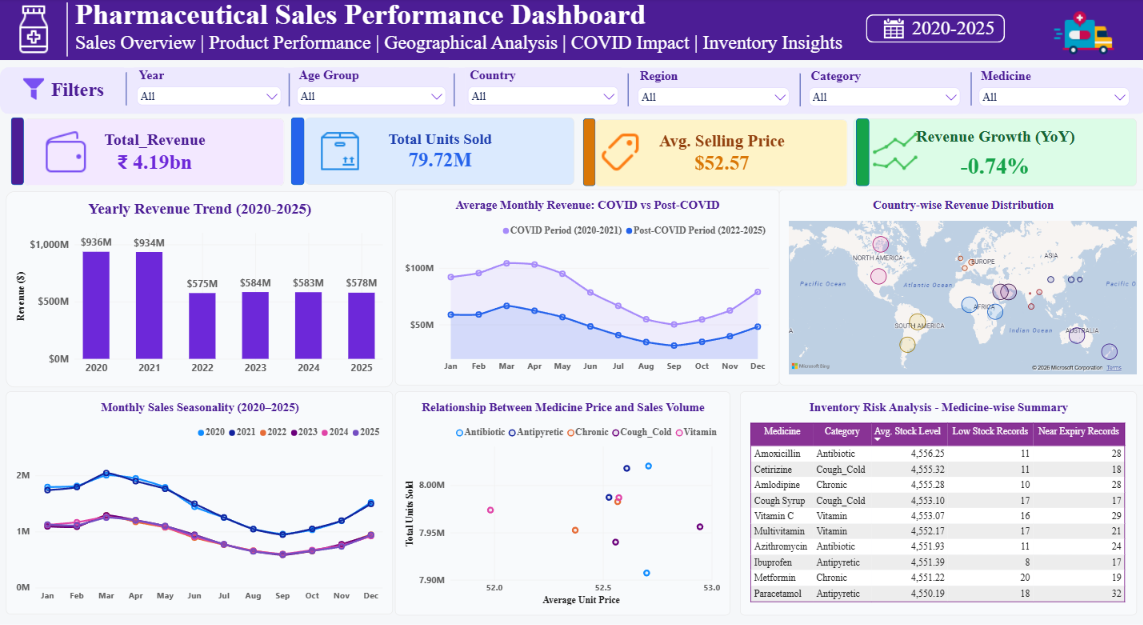

This screenshot's page, from the dashboard's own definition file:
{"tool":"powerbi","page":{"name":"Page 1","canvas":[1920,1080],"ordinal":0},"visuals":[{"type":"textbox","box":[0,0,1920.4,102.9],"z":0,"group":"g1"},{"type":"shape","box":[0,115.3,1920.4,78.2],"z":0},{"type":"cardVisual","title":"Total Units Sold","fields":{"Data":["public pharma_sales.Total Units Sold"]},"box":[511,198.8,451.7,113.4],"z":0},{"type":"kpi","title":"Revenue Growth (YoY)","fields":{"Indicator":["public pharma_sales.Revenue Growth YoY %"],"TrendLine":["public pharma_sales.year"]},"box":[1428.5,201.7,475.5,113.2],"z":0,"group":"g3"},{"type":"cardVisual","title":"Average Selling Price","fields":{"Data":["public pharma_sales.Average Selling Price"]},"box":[995.9,202.3,423.8,113.4],"z":0},{"type":"group","id":"g1","title":"Group 1","box":[0,0,1920.4,102.9],"z":1000},{"type":"image","box":[10.3,12.3,92.6,80.3],"z":1000,"group":"g1"},{"type":"shape","box":[18.7,199.7,21.5,113.2],"z":1000,"group":"g2"},{"type":"shape","box":[488,199.7,22.4,113.2],"z":1000},{"type":"shape","box":[975.7,201.7,21,113.2],"z":1000},{"type":"shape","box":[1432.9,201.7,22.2,113.2],"z":1000,"group":"g3"},{"type":"textbox","box":[1527.3,30.9,142,43.2],"z":2000},{"type":"image","box":[1712.5,0,207.9,115.3],"z":3000},{"type":"image","box":[1465.5,26.8,63.8,47.3],"z":4000},{"type":"shape","box":[1451.1,26.8,232.6,47.3],"z":5000},{"type":"shape","box":[84.4,6.2,57.6,90.6],"z":6000},{"type":"slicer","fields":{"Values":["public pharma_sales.year"]},"box":[224.4,115.3,251.1,76.2],"z":7000},{"type":"slicer","fields":{"Values":["public pharma_sales.age_group"]},"box":[491.9,115.3,259.3,76.2],"z":8000},{"type":"slicer","fields":{"Values":["public pharma_sales.region"]},"box":[1064.2,117.3,263.5,76.2],"z":9000},{"type":"slicer","fields":{"Values":["public pharma_sales.country"]},"box":[778,115.3,261.4,76.2],"z":10000},{"type":"slicer","fields":{"Values":["public pharma_sales.category"]},"box":[1350.3,117.3,263.5,76.2],"z":11000},{"type":"slicer","fields":{"Values":["public pharma_sales.medicine"]},"box":[1634.3,117.3,261.4,76.2],"z":12000},{"type":"textbox","box":[10.3,115.3,197.6,76.2],"z":13000},{"type":"image","box":[37,125.6,39.1,51.5],"z":14000},{"type":"shape","box":[183.2,123.5,57.6,55.6],"z":15000},{"type":"shape","box":[454.9,125.6,57.6,55.6],"z":16000},{"type":"shape","box":[732.8,125.6,57.6,55.6],"z":17000},{"type":"shape","box":[1023,125.6,57.6,55.6],"z":18000},{"type":"shape","box":[1311.2,125.6,57.6,55.6],"z":19000},{"type":"shape","box":[1597.3,123.5,57.6,55.6],"z":20000},{"type":"group","id":"g2","title":"Group 2","box":[18.7,199.7,21.5,113.2],"z":21000},{"type":"group","id":"g3","title":"Group 5","box":[1428.5,201.7,475.5,113.2],"z":24000},{"type":"image","box":[524.9,218.2,90.6,76.2],"z":25000},{"type":"image","box":[1002.4,220.2,74.1,76.2],"z":26000},{"type":"image","box":[1461.4,220.2,74.1,76.2],"z":27000},{"type":"clusteredColumnChart","title":"Yearly Revenue Trend (2020-2025)","fields":{"Category":["public pharma_sales.year"],"Y":["public pharma_sales.Total_Revenue"]},"box":[10,323.3,648.2,328.3],"z":28000},{"type":"lineChart","title":"Average Monthly Revenue: COVID vs Post-COVID","fields":{"Category":["public pharma_sales.Month_Year"],"Series":["public pharma_sales.COVID_period"],"Y":["public pharma_sales.Average_Monthly_Revenue"]},"box":[661,319.2,643.6,327.9],"z":29000},{"type":"map","title":"Country-wise Revenue Distribution","fields":{"Category":["public pharma_sales.country"],"Series":["public pharma_sales.region"],"Size":["public pharma_sales.Total_Revenue"]},"box":[1304.7,319.2,615.7,327.9],"z":30000},{"type":"lineChart","title":"\tMonthly Sales Seasonality (2020–2025)","fields":{"Category":["public pharma_sales.Month_Name"],"Series":["public pharma_sales.year"],"Y":["public pharma_sales.Total Units Sold"]},"box":[10,658.3,648.2,373.5],"z":31000},{"type":"scatterChart","title":"Relationship Between Medicine Price and Sales Volume","fields":{"Category":["public pharma_sales.medicine"],"Series":["public pharma_sales.category"],"X":["public pharma_sales.unit_price"],"Y":["Sum(public pharma_sales.units_sold)"]},"box":[661,657.6,561.6,375],"z":32000},{"type":"tableEx","title":"Inventory Risk Analysis  - Medicine-wise Summary","fields":{"Values":["public pharma_sales.medicine","public pharma_sales.category","public pharma_sales.Average Stock Level","public pharma_sales.Low Stock Records","public pharma_sales.Near Expiry Records"]},"box":[1240.1,657.6,664.5,375],"z":33000},{"type":"cardVisual","fields":{"Data":["public pharma_sales.Total_Revenue"]},"box":[40.1,200.6,436,113.4],"z":34000},{"type":"image","box":[68,218,83.7,80.2],"z":35000}]}

Visuals, with their boxes in screenshot pixels (x1, y1, x2, y2), scaled from the page's 1920x1080 canvas onto the 1143x625 screenshot:
textbox: [0, 0, 1142, 60]
shape: [0, 67, 1142, 112]
"Total Units Sold" cardVisual: [304, 115, 573, 181]
"Revenue Growth (YoY)" kpi: [850, 117, 1133, 182]
"Average Selling Price" cardVisual: [593, 117, 845, 183]
"Group 1" group: [0, 0, 1142, 60]
image: [6, 7, 61, 54]
shape: [11, 116, 24, 181]
shape: [291, 116, 304, 181]
shape: [581, 117, 593, 182]
shape: [853, 117, 866, 182]
textbox: [909, 18, 994, 43]
image: [1019, 0, 1142, 67]
image: [872, 16, 910, 43]
shape: [864, 16, 1002, 43]
shape: [50, 4, 85, 56]
slicer - public pharma_sales.year: [134, 67, 283, 111]
slicer - public pharma_sales.age_group: [293, 67, 447, 111]
slicer - public pharma_sales.region: [634, 68, 790, 112]
slicer - public pharma_sales.country: [463, 67, 619, 111]
slicer - public pharma_sales.category: [804, 68, 961, 112]
slicer - public pharma_sales.medicine: [973, 68, 1129, 112]
textbox: [6, 67, 124, 111]
image: [22, 73, 45, 102]
shape: [109, 71, 143, 104]
shape: [271, 73, 305, 105]
shape: [436, 73, 471, 105]
shape: [609, 73, 643, 105]
shape: [781, 73, 815, 105]
shape: [951, 71, 985, 104]
"Group 2" group: [11, 116, 24, 181]
"Group 5" group: [850, 117, 1133, 182]
image: [312, 126, 366, 170]
image: [597, 127, 641, 172]
image: [870, 127, 914, 172]
"Yearly Revenue Trend (2020-2025)" clusteredColumnChart: [6, 187, 392, 377]
"Average Monthly Revenue: COVID vs Post-COVID" lineChart: [394, 185, 777, 374]
"Country-wise Revenue Distribution" map: [777, 185, 1142, 374]
"	Monthly Sales Seasonality (2020–2025)" lineChart: [6, 381, 392, 597]
"Relationship Between Medicine Price and Sales Volume" scatterChart: [394, 381, 728, 598]
"Inventory Risk Analysis  - Medicine-wise Summary" tableEx: [738, 381, 1134, 598]
cardVisual - public pharma_sales.Total_Revenue: [24, 116, 283, 182]
image: [40, 126, 90, 173]
